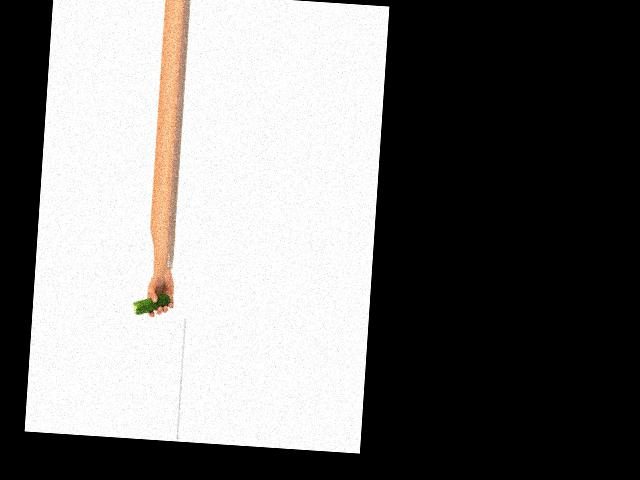cucumber: (132, 291, 171, 316)
